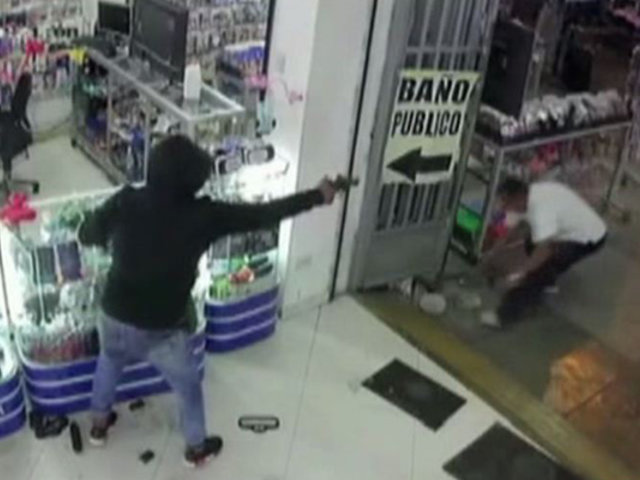Arma: (318, 166, 367, 209)
